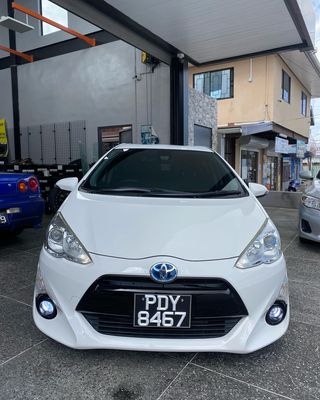License-Plate: (135, 293, 190, 326)
